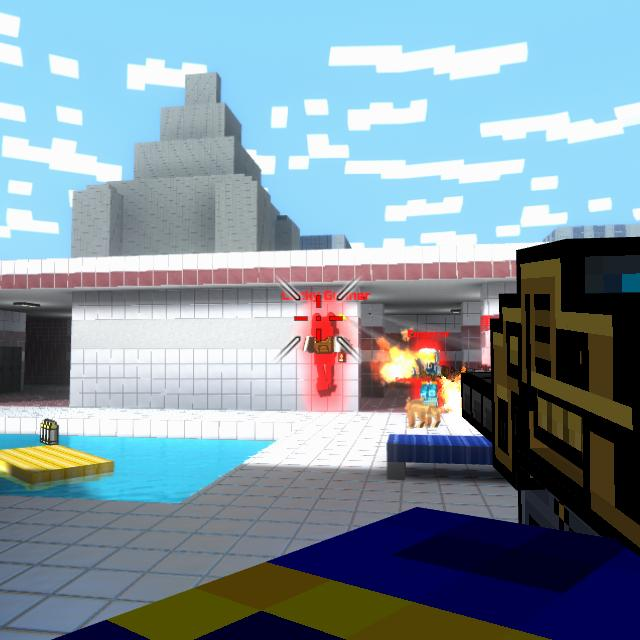Enemy: (304, 311, 350, 397), (411, 349, 449, 405)
